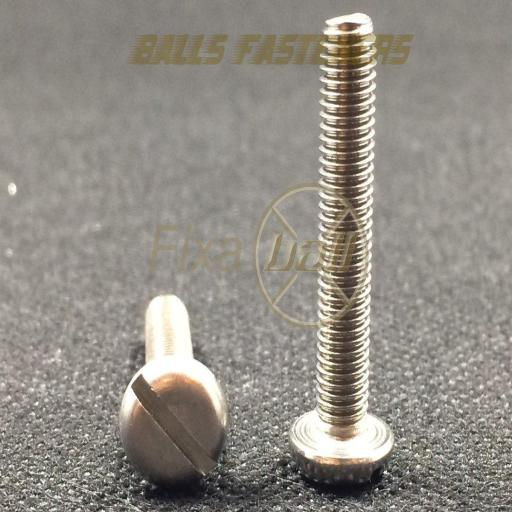Slotted: (120, 360, 226, 498)
